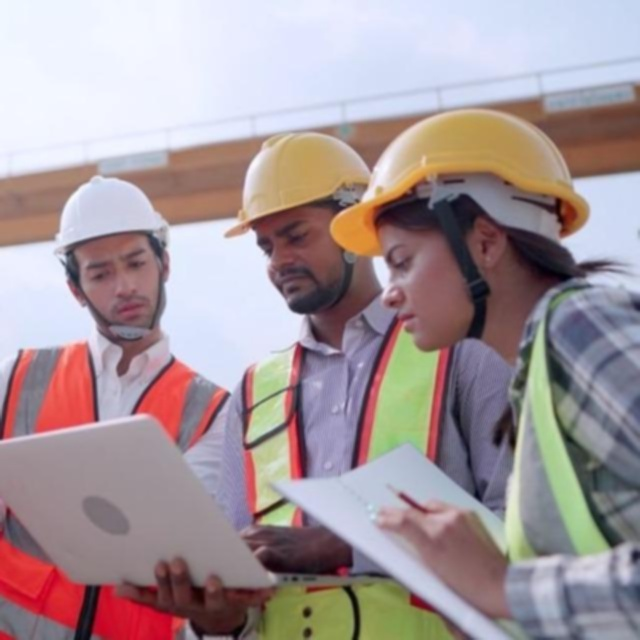Con_Casco: (328, 107, 584, 353), (227, 123, 364, 325), (52, 174, 172, 340)
Con_Chaleco: (0, 341, 224, 640)
